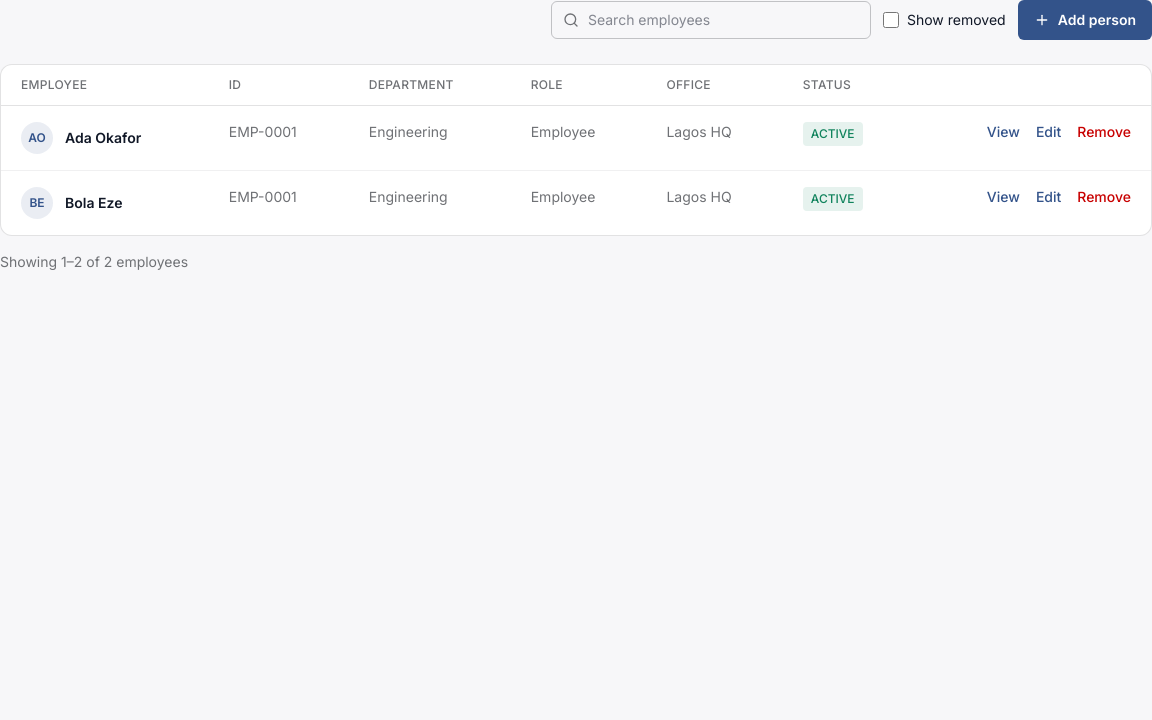
Scenario: EmployeesPageContent › opening the destructive modal › passes the row that was actually clicked
Expected: the text "Bola Eze" is shown, [65,194,122,211]
What coordinates should you click on to do the following:
click the button "Remove" in the row of "BE"
I would click on:
 (1104, 197)
Its box is [1077,187,1131,207].
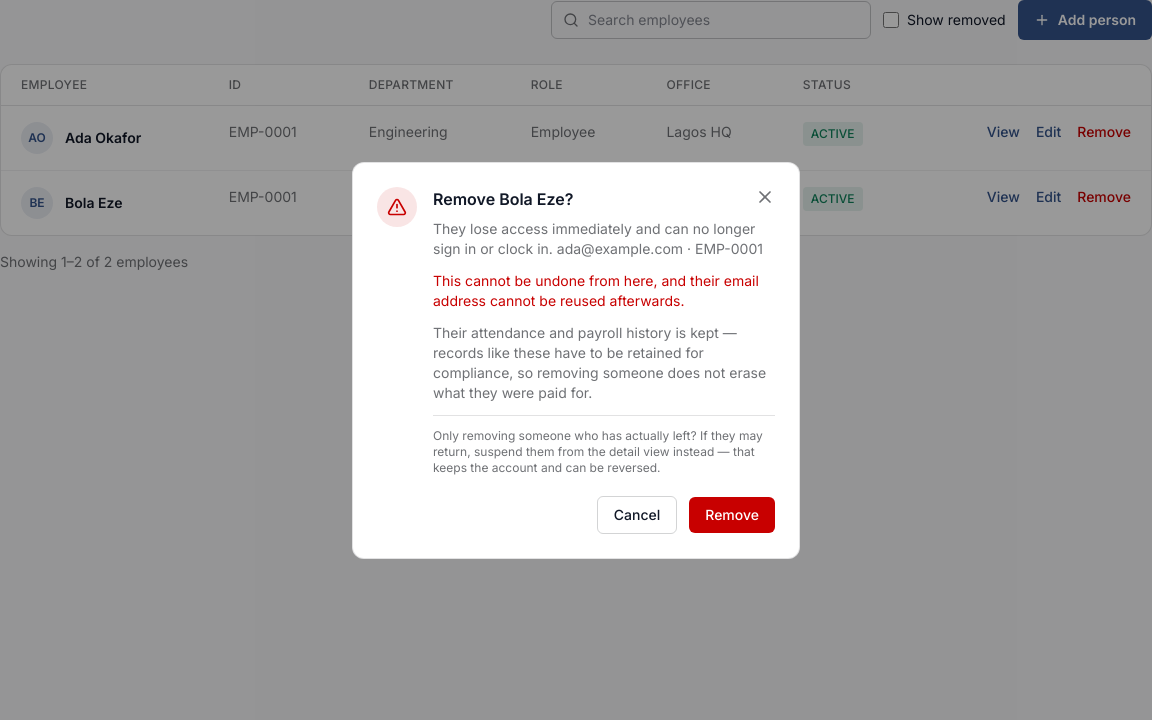
Result: the heading "Remove Bola Eze?" is shown at [433,186,574,210]
